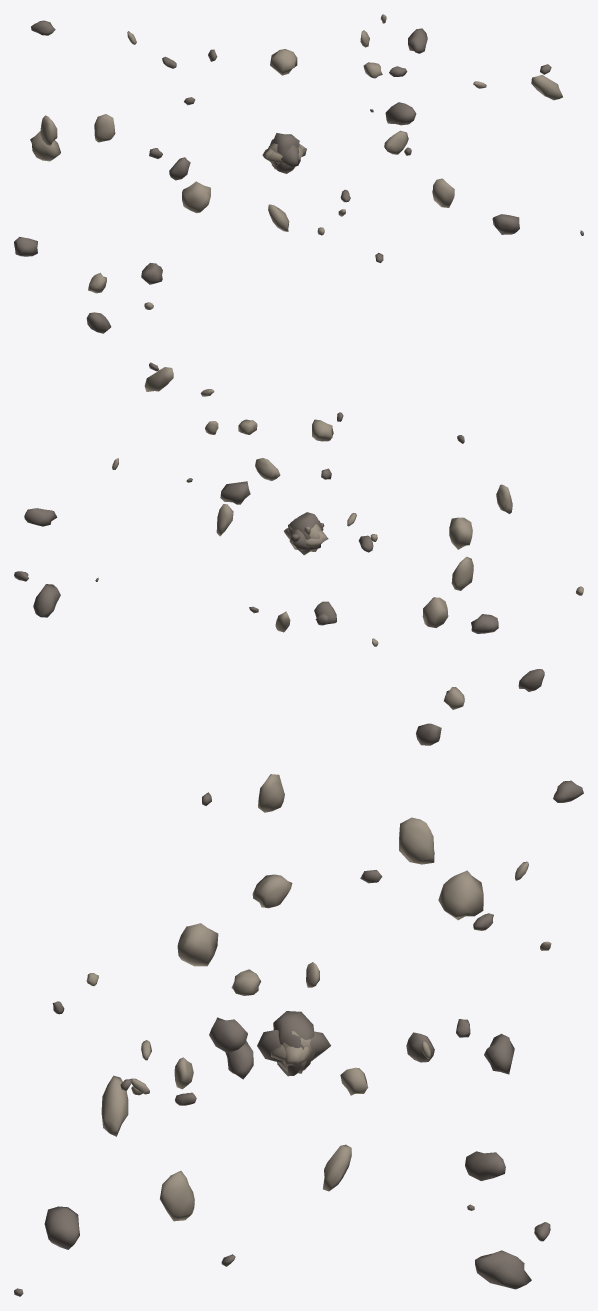
File: Asteroid_Set.glb
The picture shows the model from 3 angles, top to bottom: view 1: azimuth 30°, elevation 25°; view 2: azimuth 150°, elevation 25°; view 3: azimuth 270°, elevation 25°; orthographic projection. The views are drawn at different scales.
Parts seen in each view (by area): view 1: AsteroidField_Instance_13, AsteroidField_Instance_26, AsteroidField_Instance_01, AsteroidField_Instance_19, Asteroid_D, AsteroidField_Instance_23, AsteroidField_Instance_11, AsteroidField_Instance_27, AsteroidField_Instance_10, AsteroidField_Instance_04; view 2: AsteroidField_Instance_26, AsteroidField_Instance_13, AsteroidField_Instance_19, AsteroidField_Instance_05, AsteroidField_Instance_10, Asteroid_D, AsteroidField_Instance_27; view 3: AsteroidField_Instance_19, AsteroidField_Instance_26, AsteroidField_Instance_05, AsteroidField_Instance_13, Asteroid_D, AsteroidField_Instance_23, AsteroidField_Instance_10, AsteroidField_Instance_27, AsteroidField_Instance_22, AsteroidField_Instance_01, AsteroidField_Instance_32, Asteroid_B (+4 smaller).
Boxes of the visible parts, x1,y1,x2,y2 form: AsteroidField_Instance_13: (182,181,210,213); AsteroidField_Instance_26: (385,102,416,125); AsteroidField_Instance_01: (270,49,297,75); AsteroidField_Instance_19: (30,131,60,161); Asteroid_D: (271,133,299,173); AsteroidField_Instance_23: (432,178,454,207); AsteroidField_Instance_11: (94,114,115,142); AsteroidField_Instance_27: (531,75,562,100); AsteroidField_Instance_10: (492,214,519,234); AsteroidField_Instance_04: (14,237,37,256); AsteroidField_Instance_26: (33,584,60,617); AsteroidField_Instance_13: (449,517,472,549); AsteroidField_Instance_19: (422,597,448,627); AsteroidField_Instance_05: (451,556,473,590); AsteroidField_Instance_10: (220,481,250,504); Asteroid_D: (290,512,320,555); AsteroidField_Instance_27: (144,367,173,391); AsteroidField_Instance_19: (438,870,483,920); AsteroidField_Instance_26: (475,1250,531,1289); AsteroidField_Instance_05: (399,817,434,864); AsteroidField_Instance_13: (177,923,218,966); Asteroid_D: (273,1011,314,1076); AsteroidField_Instance_23: (160,1171,194,1221); AsteroidField_Instance_10: (44,1206,79,1249); AsteroidField_Instance_27: (101,1075,128,1136); AsteroidField_Instance_22: (209,1017,247,1053); AsteroidField_Instance_01: (252,874,292,908); AsteroidField_Instance_32: (465,1151,505,1180); Asteroid_B: (257,1030,330,1062).
Size of the model in its own units: 21.04 by 10.5 by 15.98.
